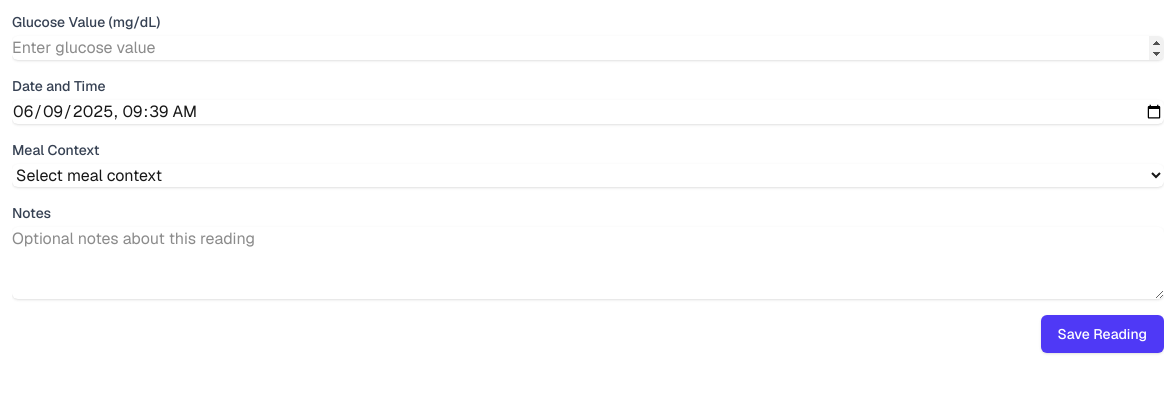
Test: GlucoseReadingForm Component › should validate timestamp format
The width and height of the screenshot is (1176, 395).
# Clear the date input to make it invalid
Clear the field with test id "timestamp-input" at (588,112), box [12,100,1164,124]
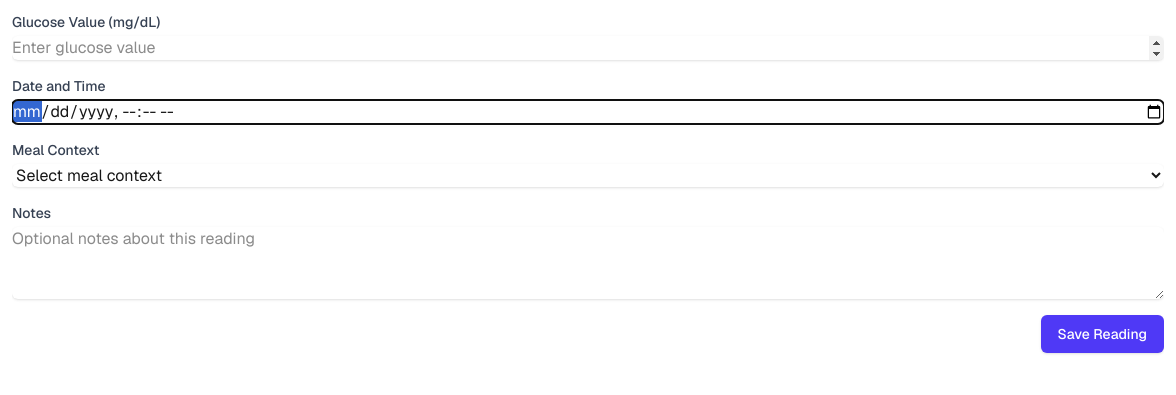
# Fill in a valid value to avoid other validation errors
Type "120" into the number field with test id "glucose-value-input" at (588,48), box [12,36,1164,60]
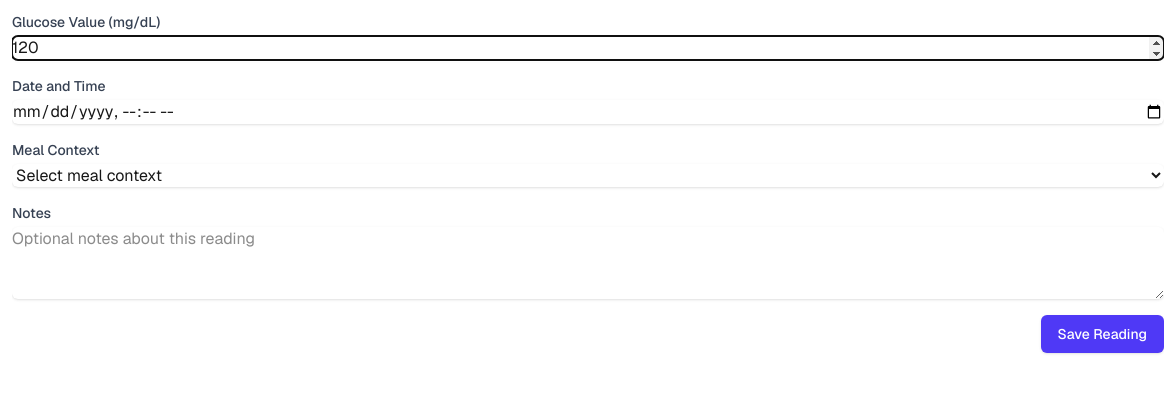
# Select a meal context to avoid other validation errors
Select "Fasting" in the dropdown with test id "meal-context-select" at (588,176), box [12,164,1164,187]
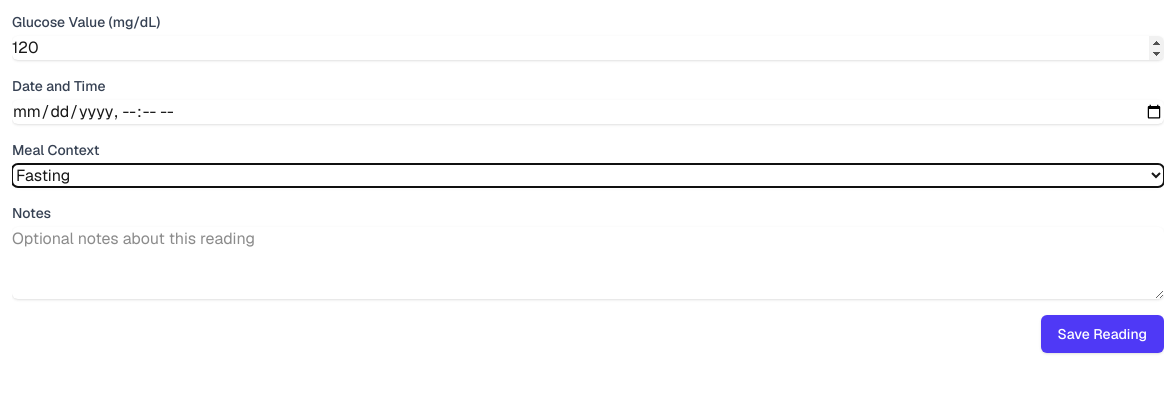
Click the button with test id "submit-button" at (1102,334), box [1040,315,1164,353]
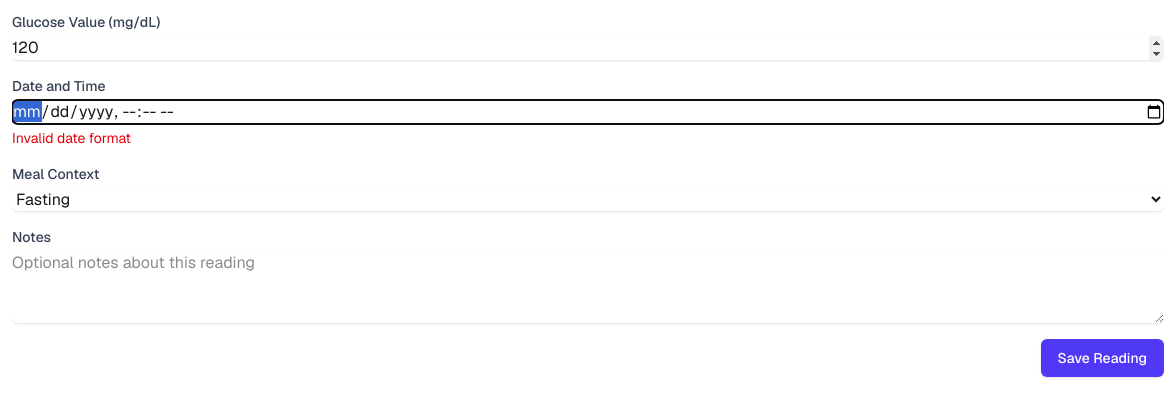
expect the text "Invalid date format" is shown: met, box [12,129,131,147]
